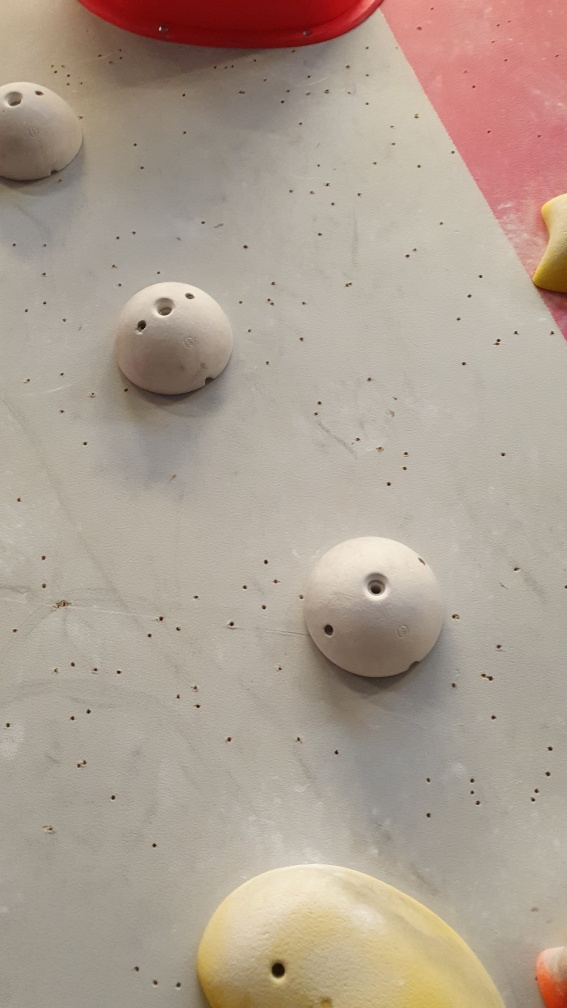Sloper: (309, 534, 449, 685), (115, 275, 239, 400), (1, 81, 86, 189)
